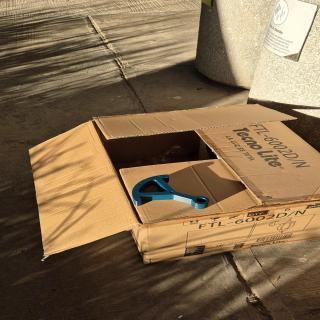haptic: (131, 174, 210, 210)
